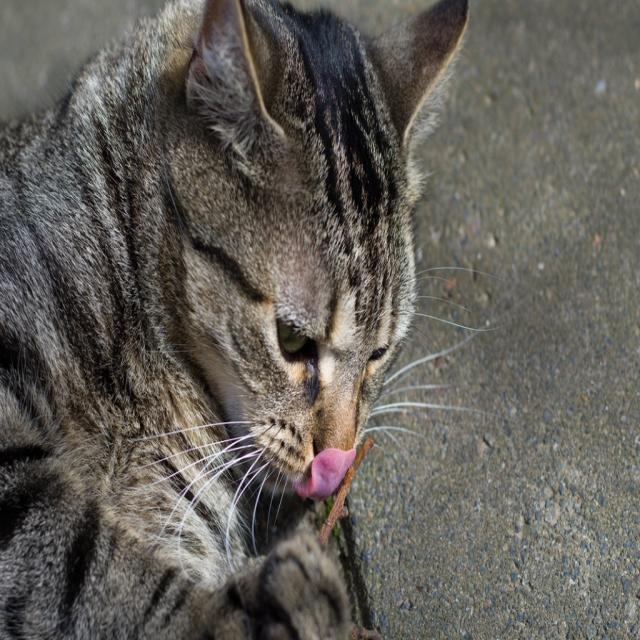Cat: (0, 0, 531, 639)
